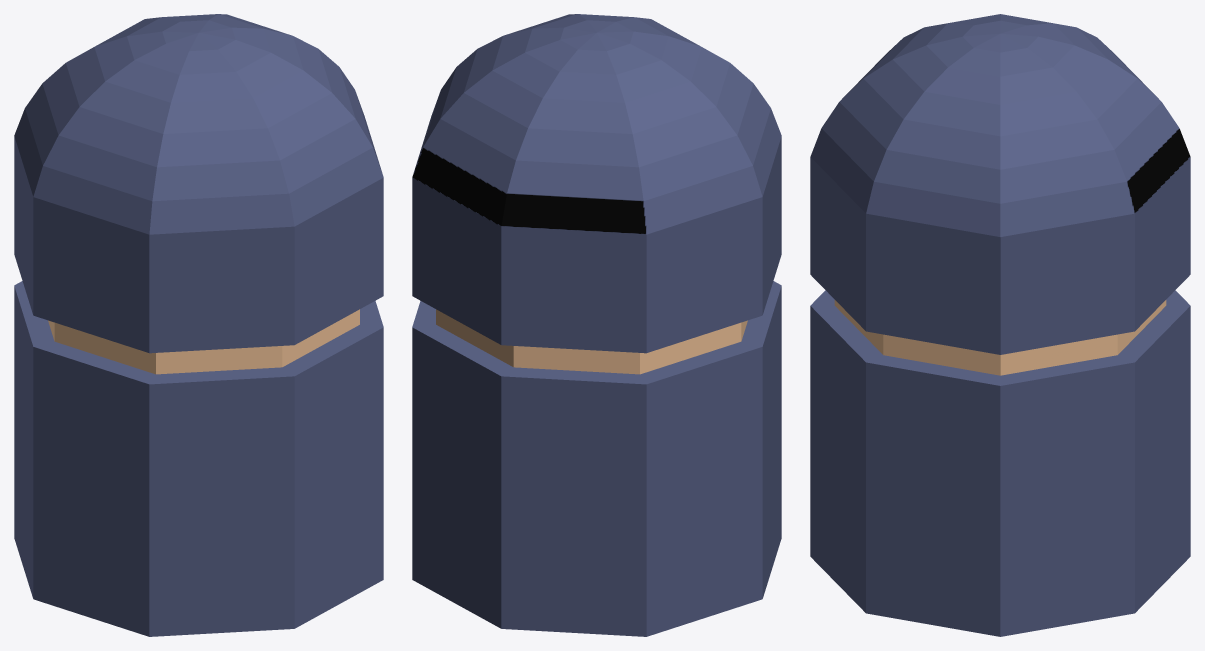
The model's file is Knight.fbx.
3 views of the same model, side by side, from view 1: azimuth 30°, elevation 25°; view 2: azimuth 150°, elevation 25°; view 3: azimuth 270°, elevation 25° (orthographic).
Parts seen in each view (by area): view 1: Sphere; view 2: Sphere; view 3: Sphere.
Part boxes in pixels (x1=…): Sphere: x1=14, y1=14, x2=383, y2=636; Sphere: x1=412, y1=14, x2=781, y2=636; Sphere: x1=810, y1=14, x2=1190, y2=636.
Size of the model in its own units: 27.46 by 41.68 by 27.46.
